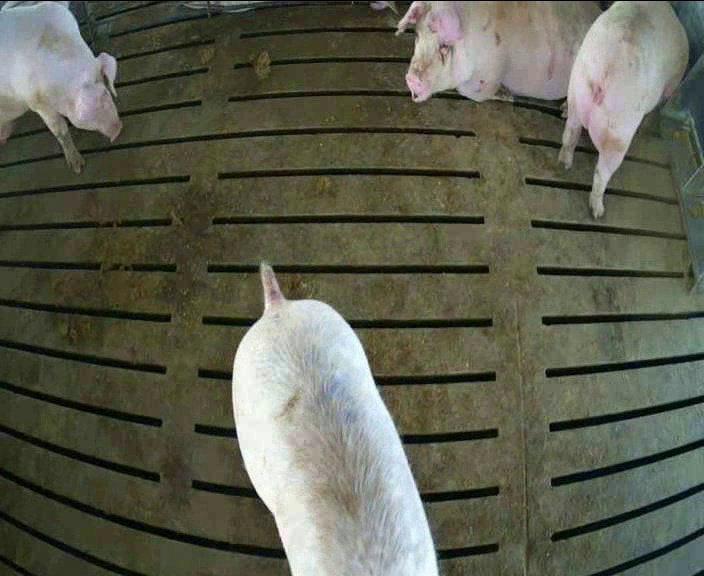pig: (233, 262, 436, 574), (559, 2, 688, 217)
